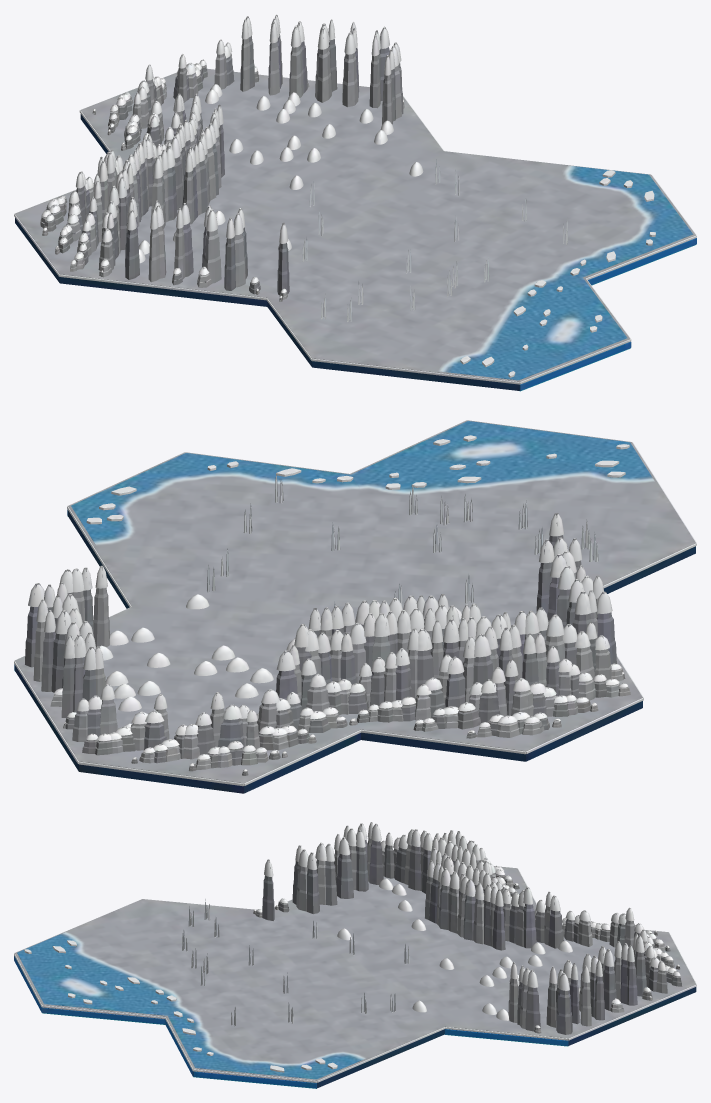
File: field_cm21_01.glb
3 renders of one model, top to bottom at view 1: azimuth 30°, elevation 25°; view 2: azimuth 150°, elevation 25°; view 3: azimuth 270°, elevation 25°, orthographic. The views are drawn at different scales.
Parts seen in each view (by area): view 1: field_cm21_01-runtime-static; view 2: field_cm21_01-runtime-static; view 3: field_cm21_01-runtime-static.
Part boxes in pixels (x1,y1,x2,y2): field_cm21_01-runtime-static: (14,14,696,391); field_cm21_01-runtime-static: (14,420,696,793); field_cm21_01-runtime-static: (14,822,696,1088).
Size of the model in its own units: 14.93 by 2.05 by 19.17.
Materials: 1 (1 with a texture image).
